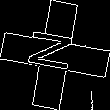N_E: (27, 31, 83, 79)
